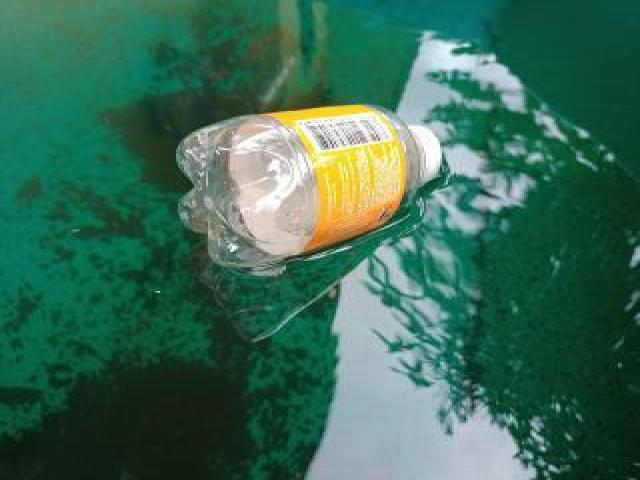Bottle: (163, 96, 451, 272)
